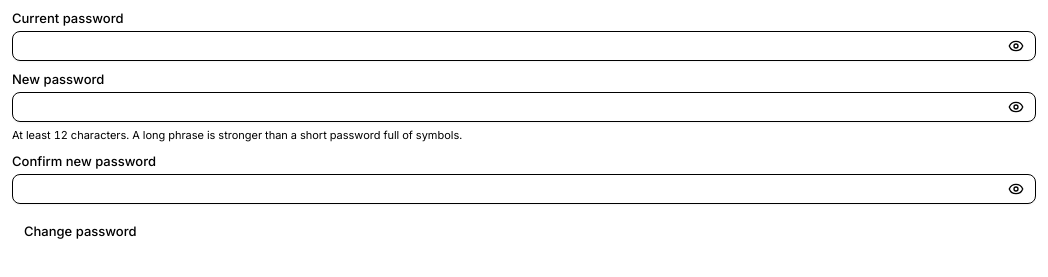
Test case: PasswordForm › a wrong current password is announced on that field and the typed values stay
In the password field labelled "Current password": x=524, y=46 [12, 31, 1036, 61], type "nope nope nope"
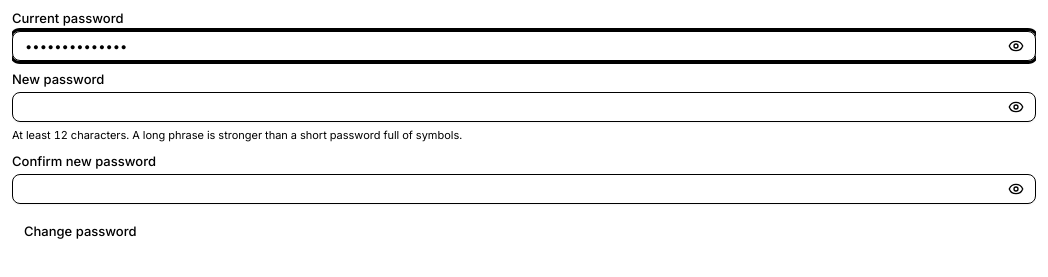
Click the button "Change password": x=80, y=231 [12, 216, 148, 246]
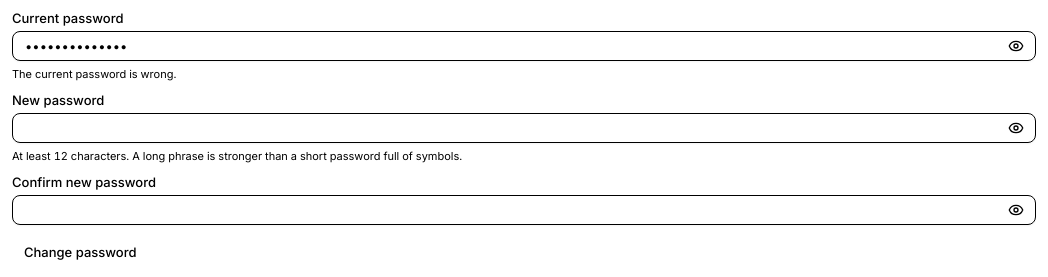
Now the message reads "The current password is wrong.", box [12, 67, 176, 81]
